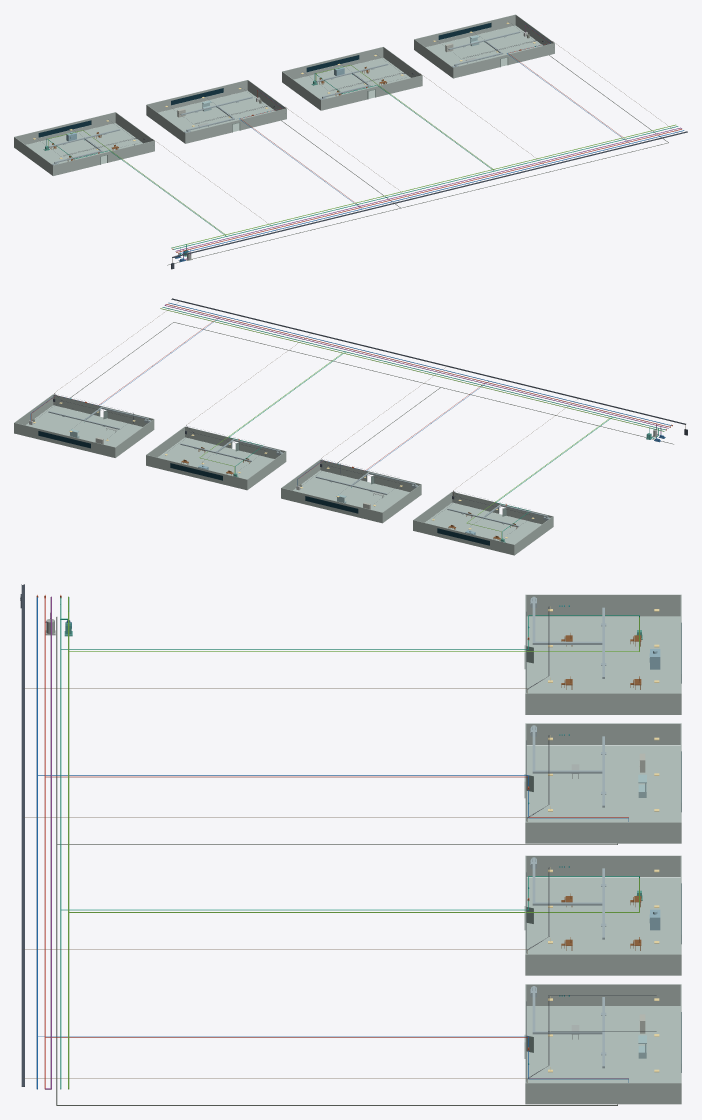
Rendered from LAB.glb.
3 views of the same model, one above another, from view 1: azimuth 30°, elevation 25°; view 2: azimuth 150°, elevation 25°; view 3: azimuth 270°, elevation 25° (orthographic). The views are drawn at different scales.
Visible parts, largest first — view 1: V4_LAB_R02_WALLS, V4_LAB_R04_WALLS, V4_LAB_R01_WALLS, V4_LAB_R03_WALLS, V4_LAB_R01_FLOOR_ZONE, V4_LAB_R03_FLOOR_ZONE, V4_LAB_R02_FLOOR_ZONE, V4_LAB_R04_FLOOR_ZONE, V4_LAB_TRAY0, V4_LAB_MAIN_HOT_RETURN, V4_LAB_MAIN_COLD, V4_LAB_MAIN_HOT (+3 smaller); view 2: V4_LAB_R03_WALLS, V4_LAB_R02_WALLS, V4_LAB_R01_WALLS, V4_LAB_R04_WALLS, V4_LAB_R03_FLOOR_ZONE, V4_LAB_R01_FLOOR_ZONE, V4_LAB_R02_FLOOR_ZONE, V4_LAB_R04_FLOOR_ZONE, V4_LAB_TRAY0, V4_LAB_MAIN_HOT_RETURN, V4_LAB_MAIN_COLD, V4_LAB_MAIN_HOT (+3 smaller); view 3: V4_LAB_R04_FLOOR_ZONE, V4_LAB_R02_FLOOR_ZONE, V4_LAB_R01_FLOOR_ZONE, V4_LAB_R03_FLOOR_ZONE, V4_LAB_R01_WALLS, V4_LAB_R02_WALLS, V4_LAB_R03_WALLS, V4_LAB_R04_WALLS, V4_LAB_TRAY0, V4_LAB_R04_DRAIN, V4_LAB_R03_PIPE_PCW, V4_LAB_R02_PIPE_HOT (+5 smaller).
Boxes of the visible parts, x1,y1,x2,y2 form: V4_LAB_R02_WALLS: [146, 80, 286, 143]; V4_LAB_R04_WALLS: [414, 14, 554, 78]; V4_LAB_R01_WALLS: [14, 112, 154, 175]; V4_LAB_R03_WALLS: [282, 47, 422, 110]; V4_LAB_R01_FLOOR_ZONE: [26, 123, 142, 164]; V4_LAB_R03_FLOOR_ZONE: [294, 57, 410, 98]; V4_LAB_R02_FLOOR_ZONE: [158, 91, 274, 131]; V4_LAB_R04_FLOOR_ZONE: [426, 25, 542, 66]; V4_LAB_TRAY0: [172, 131, 687, 257]; V4_LAB_MAIN_HOT_RETURN: [175, 127, 681, 251]; V4_LAB_MAIN_COLD: [179, 130, 684, 253]; V4_LAB_MAIN_HOT: [177, 129, 681, 252]; V4_LAB_R03_WALLS: [146, 426, 286, 490]; V4_LAB_R02_WALLS: [281, 459, 421, 523]; V4_LAB_R01_WALLS: [413, 491, 553, 555]; V4_LAB_R04_WALLS: [14, 394, 154, 457]; V4_LAB_R03_FLOOR_ZONE: [158, 437, 274, 479]; V4_LAB_R01_FLOOR_ZONE: [425, 502, 541, 544]; V4_LAB_R02_FLOOR_ZONE: [293, 470, 409, 512]; V4_LAB_R04_FLOOR_ZONE: [26, 405, 142, 447]; V4_LAB_TRAY0: [171, 298, 685, 424]; V4_LAB_MAIN_HOT_RETURN: [164, 304, 668, 428]; V4_LAB_MAIN_COLD: [168, 302, 671, 425]; V4_LAB_MAIN_HOT: [166, 304, 669, 427]; V4_LAB_R04_FLOOR_ZONE: [526, 1006, 680, 1082]; V4_LAB_R02_FLOOR_ZONE: [526, 745, 680, 821]; V4_LAB_R01_FLOOR_ZONE: [526, 616, 680, 693]; V4_LAB_R03_FLOOR_ZONE: [526, 877, 680, 953]; V4_LAB_R01_WALLS: [525, 594, 681, 714]; V4_LAB_R02_WALLS: [525, 723, 681, 843]; V4_LAB_R03_WALLS: [525, 855, 681, 975]; V4_LAB_R04_WALLS: [525, 984, 681, 1104]; V4_LAB_TRAY0: [21, 584, 24, 1086]; V4_LAB_R04_DRAIN: [56, 617, 617, 1105]; V4_LAB_R03_PIPE_PCW: [61, 876, 639, 910]; V4_LAB_R02_PIPE_HOT: [46, 776, 628, 817].
Bounding box in the file's own units: 153 × 4.26 × 84.73.
